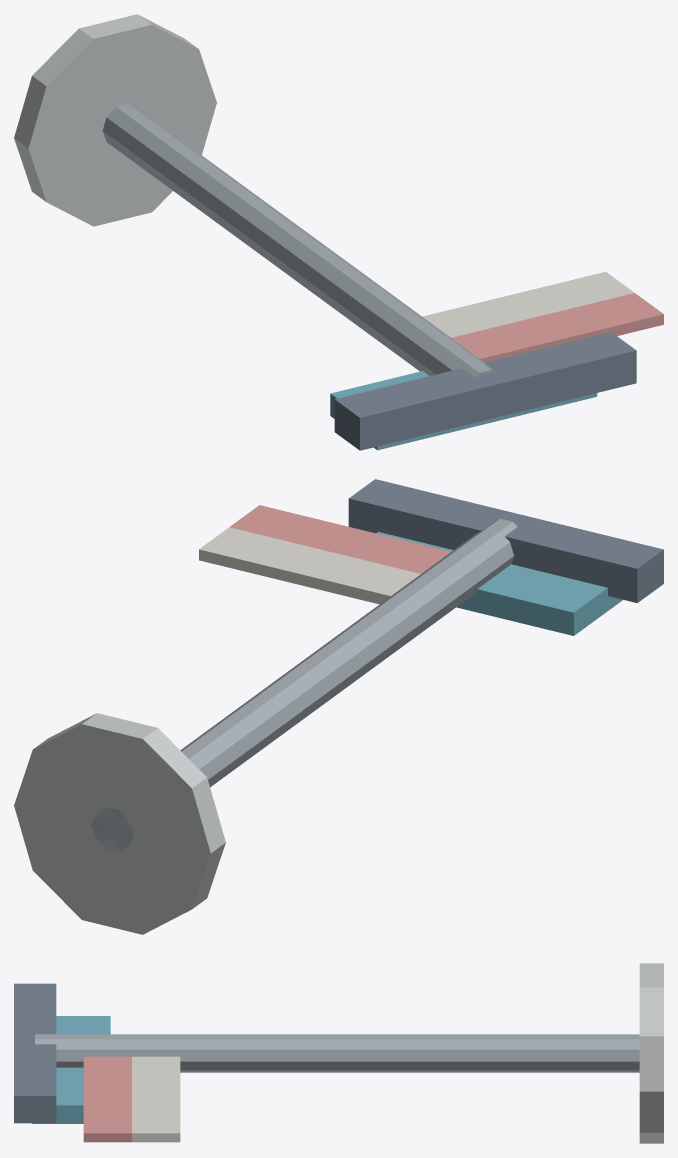
File: flagpole_indonesia.glb
3 renders of one model, top to bottom at view 1: azimuth 30°, elevation 25°; view 2: azimuth 150°, elevation 25°; view 3: azimuth 270°, elevation 25°, orthographic. The views are drawn at different scales.
Visible parts, largest first — view 1: concrete, metal2, metal, salmon, white, blue; view 2: concrete, metal2, metal, white, blue, salmon; view 3: metal2, metal, concrete, salmon, white, blue.
Part boxes in pixels (<box>): concrete: <box>14,14,216,226</box>; metal2: <box>102,104,495,377</box>; metal: <box>334,332,636,450</box>; salmon: <box>451,293,663,362</box>; white: <box>422,272,634,337</box>; blue: <box>330,371,597,450</box>; concrete: <box>14,713,225,934</box>; metal2: <box>91,518,517,851</box>; metal: <box>348,479,663,603</box>; white: <box>199,527,420,604</box>; blue: <box>376,532,622,635</box>; salmon: <box>229,505,450,573</box>; metal2: <box>35,1034,639,1072</box>; metal: <box>14,983,56,1123</box>; concrete: <box>639,963,663,1143</box>; salmon: <box>83,1056,131,1142</box>; white: <box>132,1056,180,1142</box>; blue: <box>32,1016,110,1123</box>.
Bounding box in the file's own units: 2.75 × 1.43 × 5.38.
